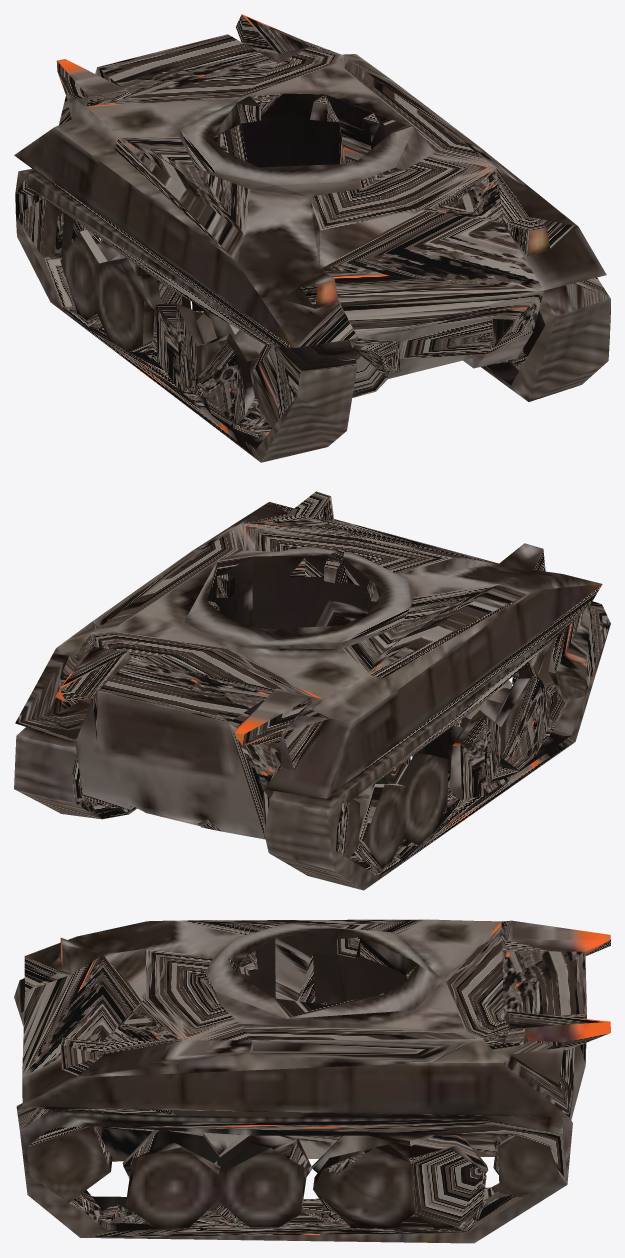
The model's file is hull-s9.glb.
3 views of the same model, one above another, from view 1: azimuth 30°, elevation 25°; view 2: azimuth 150°, elevation 25°; view 3: azimuth 270°, elevation 25° (orthographic). The views are drawn at different scales.
Visible parts, largest first — view 1: 9ea61622-a94c-4b6b-8ea4-258bbf757e43_texturing.obj; view 2: 9ea61622-a94c-4b6b-8ea4-258bbf757e43_texturing.obj; view 3: 9ea61622-a94c-4b6b-8ea4-258bbf757e43_texturing.obj.
Part boxes in pixels (x1,y1,x2,y2): 9ea61622-a94c-4b6b-8ea4-258bbf757e43_texturing.obj: (14, 14, 610, 462); 9ea61622-a94c-4b6b-8ea4-258bbf757e43_texturing.obj: (14, 491, 610, 890); 9ea61622-a94c-4b6b-8ea4-258bbf757e43_texturing.obj: (14, 919, 610, 1243).
Bounding box in the file's own units: 1.2 × 0.7665 × 1.97.
1 material, 1 textured.
